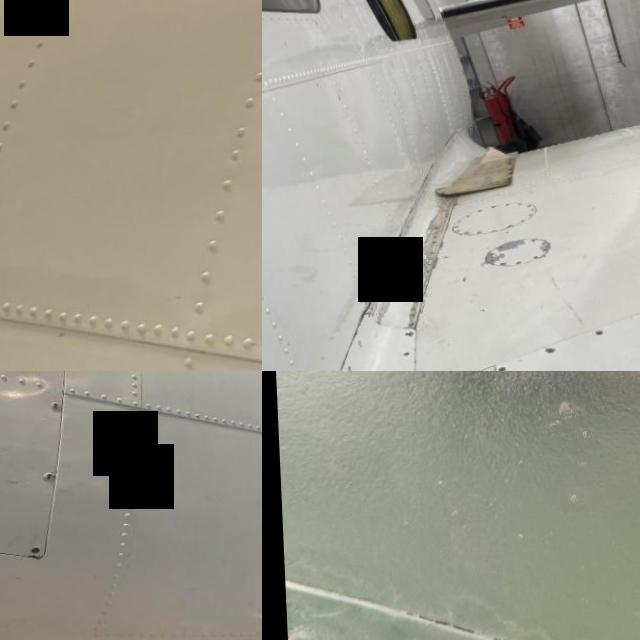Crack: (378, 228, 404, 270), (402, 200, 418, 220)
Missing_Fastener: (397, 352, 407, 357), (591, 332, 601, 337), (401, 332, 412, 336), (342, 366, 349, 371)
